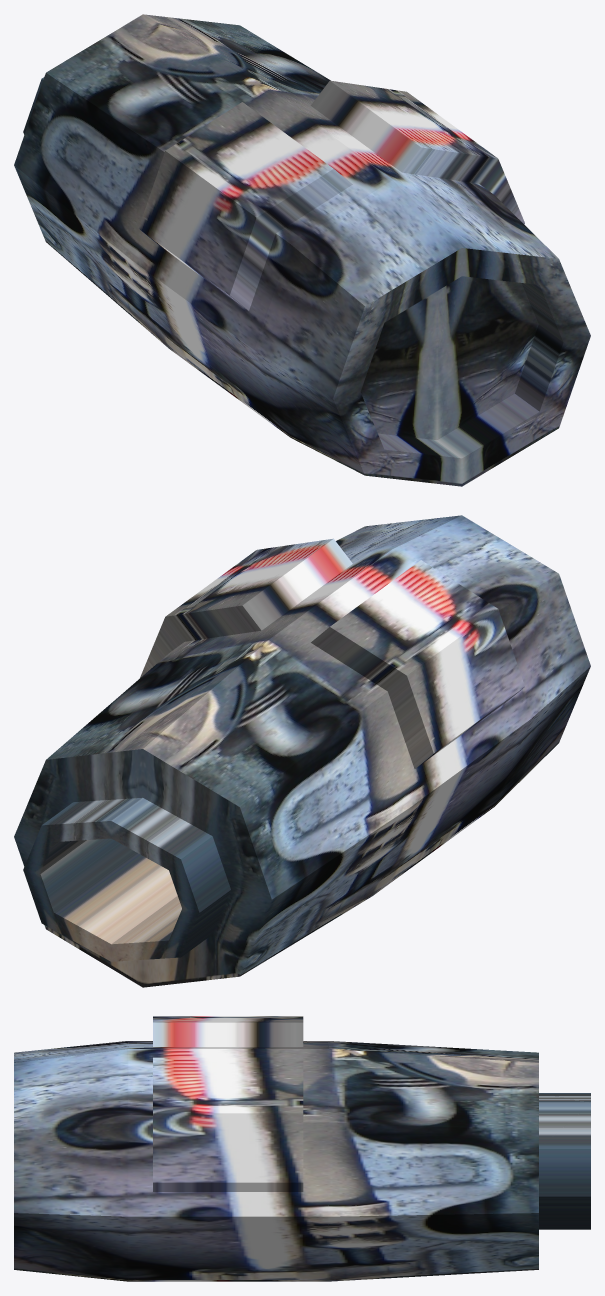
3 views of the same model, one above another, from view 1: azimuth 30°, elevation 25°; view 2: azimuth 150°, elevation 25°; view 3: azimuth 270°, elevation 25° (orthographic). The views are drawn at different scales.
Parts seen in each view (by area): view 1: Engine-3.001_Cube.017; view 2: Engine-3.001_Cube.017; view 3: Engine-3.001_Cube.017.
Boxes of the visible parts, left/top/right/bottom form: Engine-3.001_Cube.017: left=14, top=14, right=590, bottom=486; Engine-3.001_Cube.017: left=14, top=515, right=590, bottom=987; Engine-3.001_Cube.017: left=14, top=1016, right=590, bottom=1281.
Bounding box in the file's own units: 5.08 × 4.66 × 10.44.
